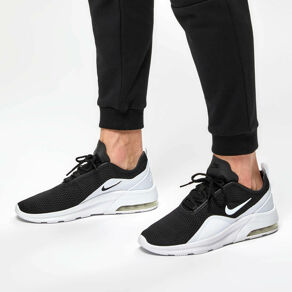nike: (223, 196, 253, 218), (101, 180, 122, 192)
